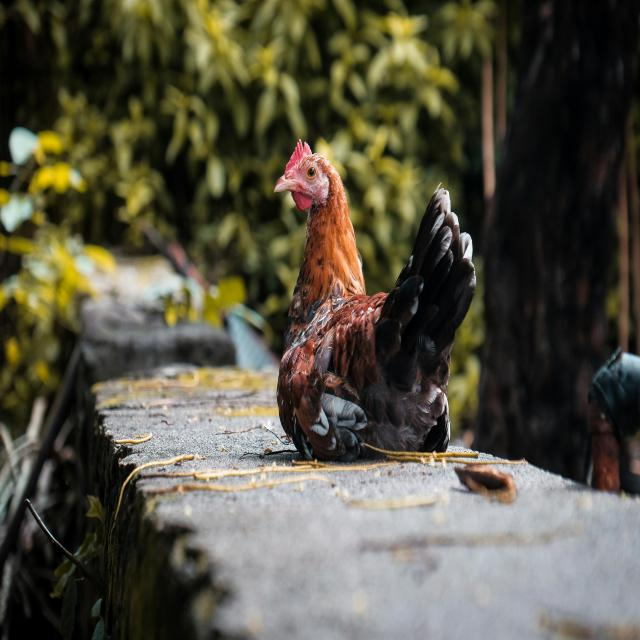Chicken: (260, 120, 493, 490)
